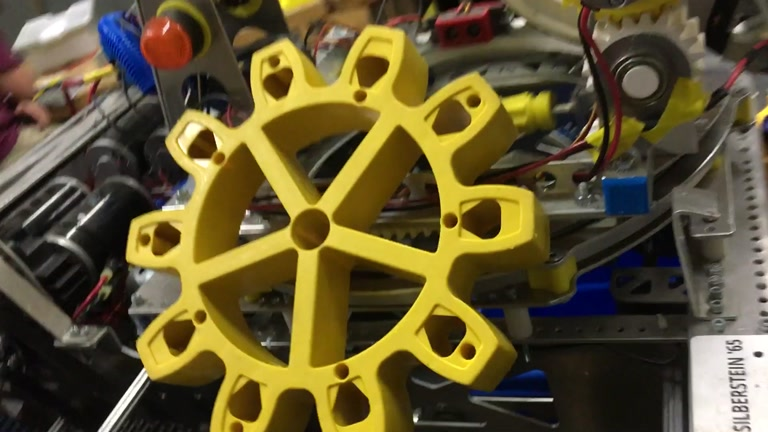gear: (126, 30, 552, 432)
